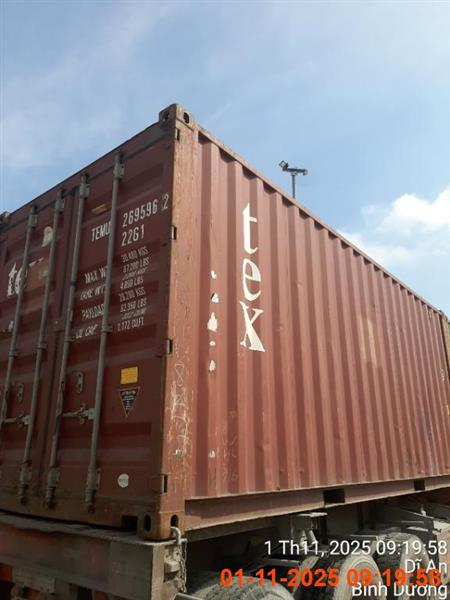broken: (0, 104, 449, 599)
